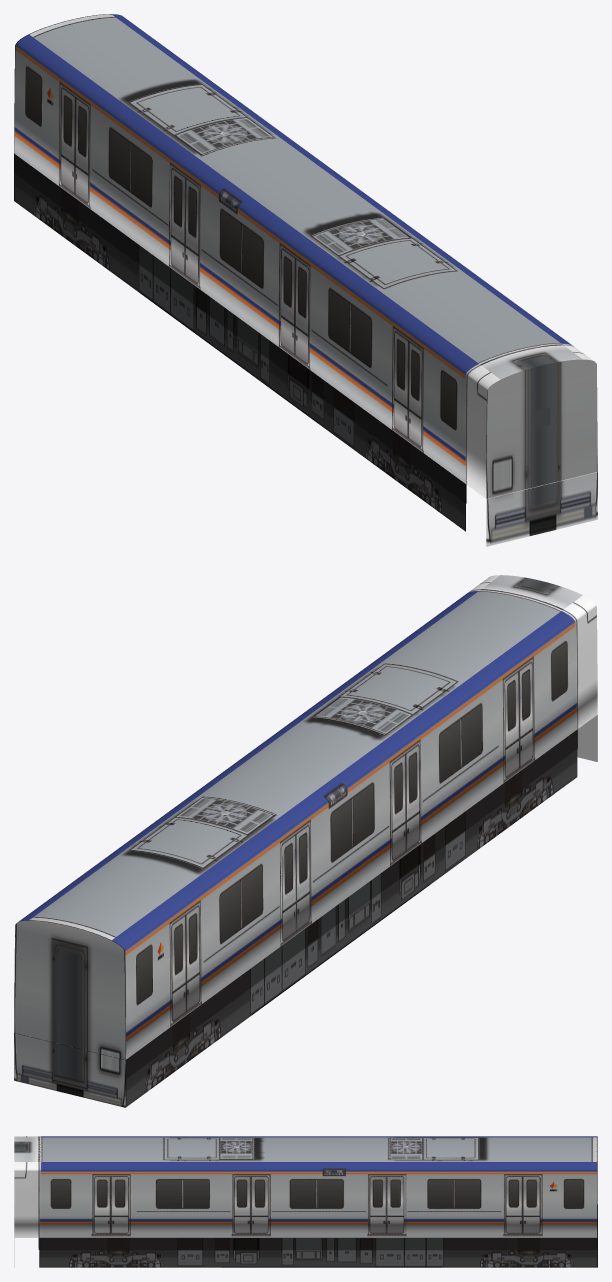
The model's file is car3.glb.
The picture shows the model from 3 angles, top to bottom: view 1: azimuth 30°, elevation 25°; view 2: azimuth 150°, elevation 25°; view 3: azimuth 270°, elevation 25°; orthographic projection. The views are drawn at different scales.
Parts seen in each view (by area): view 1: nankai-8000-car3; view 2: nankai-8000-car3; view 3: nankai-8000-car3.
Part boxes in pixels (box(x1,y1,x2,y2)): nankai-8000-car3: box(14, 14, 597, 546); nankai-8000-car3: box(14, 575, 597, 1107); nankai-8000-car3: box(14, 1136, 597, 1267).
Size of the model in its own units: 2.82 by 4.05 by 20.7.
Materials: 9 (8 with a texture image).
